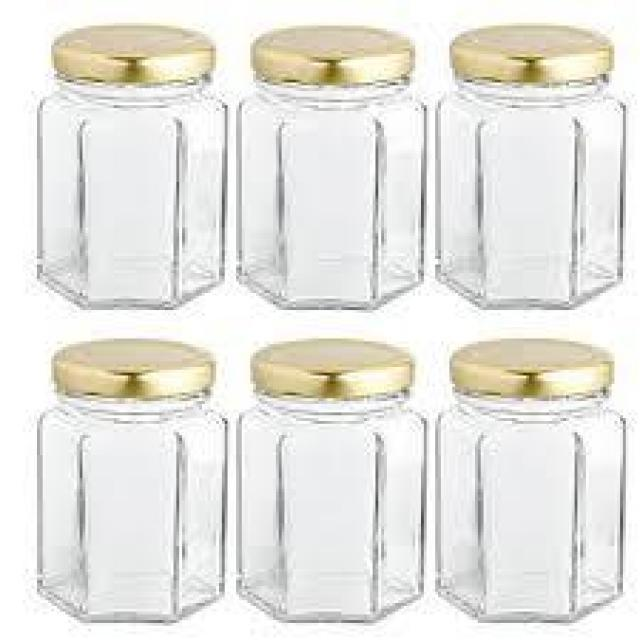glass: (232, 336, 431, 632)
